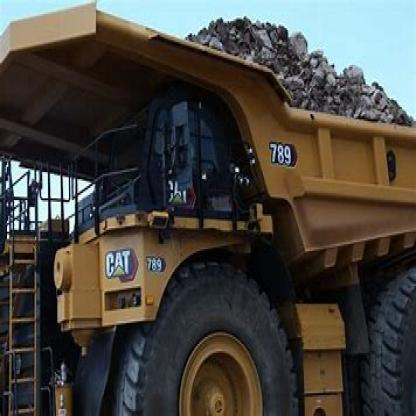dump_truck: (0, 2, 415, 414)
